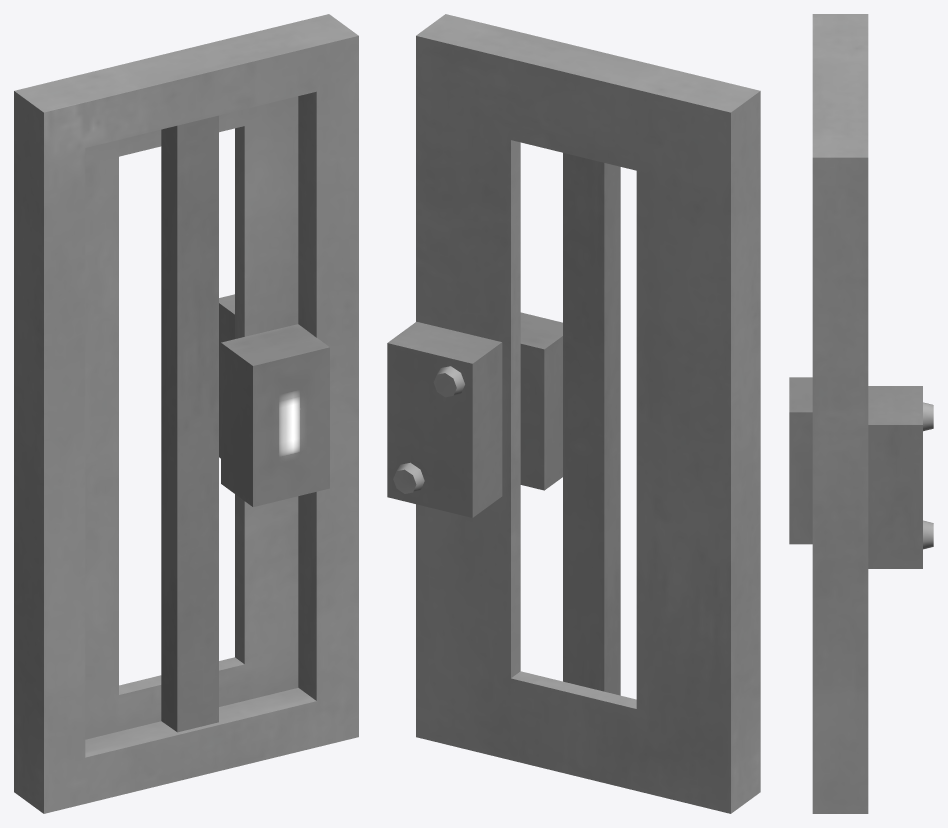
File: Pfb_Prison_Cage1.fbx
3 views of the same model, side by side, from view 1: azimuth 30°, elevation 25°; view 2: azimuth 150°, elevation 25°; view 3: azimuth 270°, elevation 25° (orthographic). The views are drawn at different scales.
Parts seen in each view (by area): view 1: Mat_Prison_Cage; view 2: Mat_Prison_Cage; view 3: Mat_Prison_Cage.
Boxes of the visible parts, bbox=[...] form: Mat_Prison_Cage: bbox=[14, 14, 358, 813]; Mat_Prison_Cage: bbox=[387, 14, 760, 813]; Mat_Prison_Cage: bbox=[789, 14, 933, 813].
Size of the model in its own units: 0.9885 by 2.1 by 0.4194.
1 material, 1 textured.
